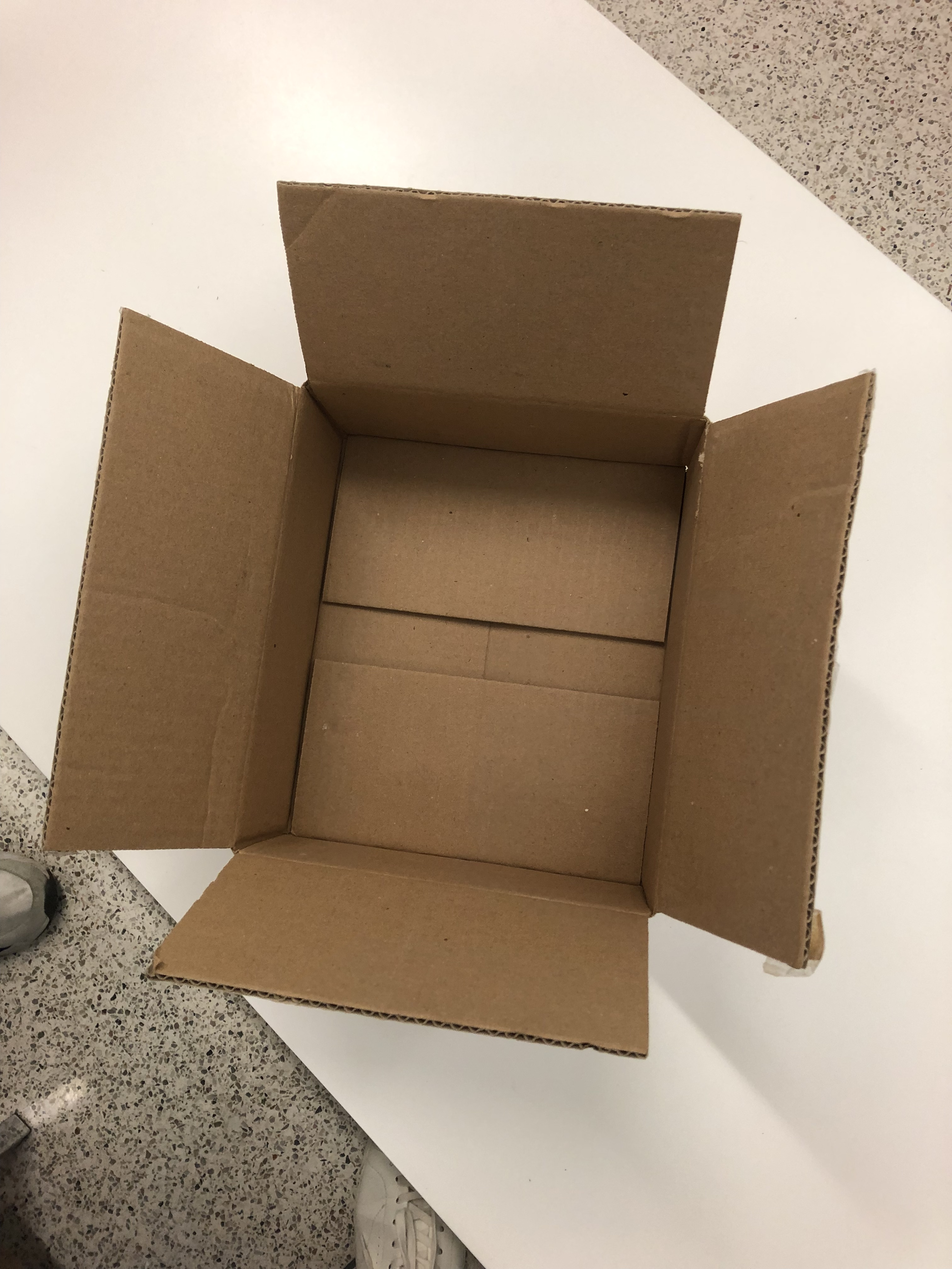box: (39, 179, 879, 1059)
crushed: (37, 177, 877, 1061)
